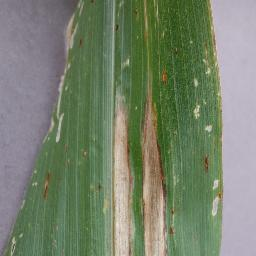Corn_Blight: (108, 82, 177, 256), (34, 10, 85, 148), (192, 24, 230, 98), (195, 150, 226, 231), (14, 160, 63, 208), (131, 0, 172, 41), (193, 100, 220, 135), (7, 217, 29, 253), (160, 48, 180, 80), (71, 147, 91, 164), (93, 173, 107, 197), (113, 12, 123, 36), (72, 0, 97, 6)
